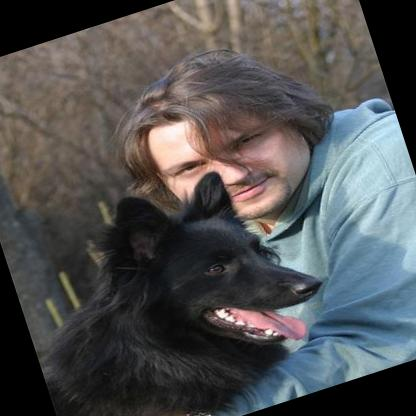groenendael: (0, 142, 351, 416)
